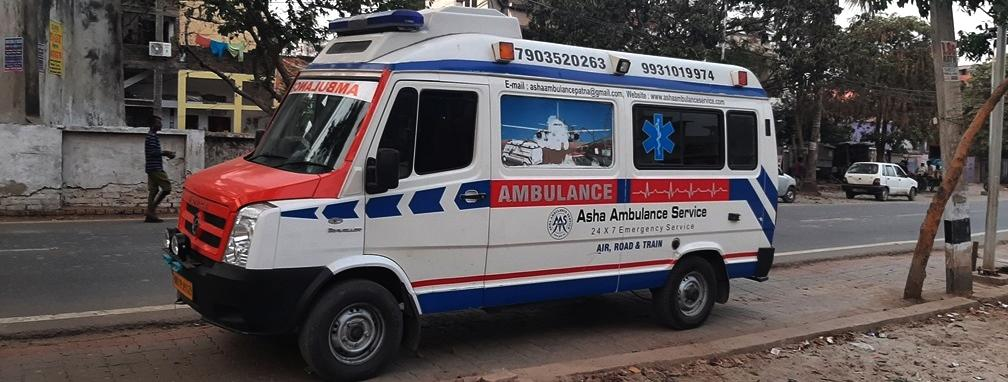ambulance: (173, 7, 779, 361)
